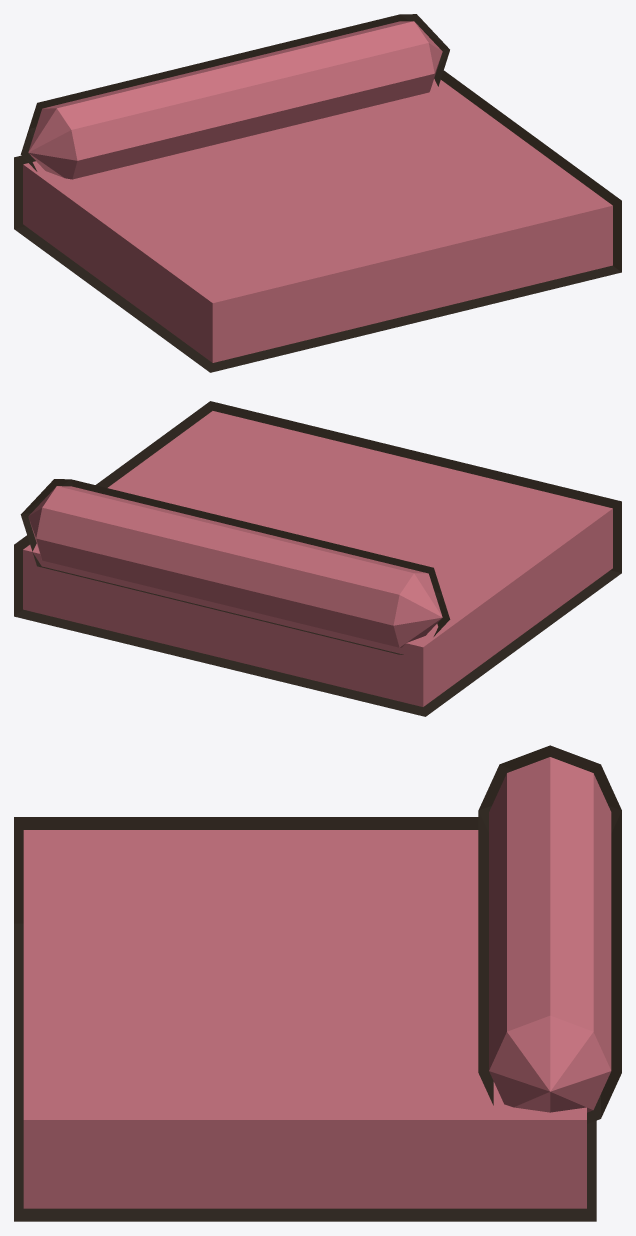
File: cushion_02.glb
The picture shows the model from 3 angles, top to bottom: view 1: azimuth 30°, elevation 25°; view 2: azimuth 150°, elevation 25°; view 3: azimuth 270°, elevation 25°; orthographic projection. The views are drawn at different scales.
Visible parts, largest first — view 1: OBJ_cushion_02; view 2: OBJ_cushion_02; view 3: OBJ_cushion_02.
Boxes of the visible parts, bbox=[...] form: OBJ_cushion_02: bbox=[14, 14, 621, 372]; OBJ_cushion_02: bbox=[14, 401, 621, 716]; OBJ_cushion_02: bbox=[14, 745, 621, 1221].
Size of the model in its own units: 0.6012 by 0.1766 by 0.4966.
